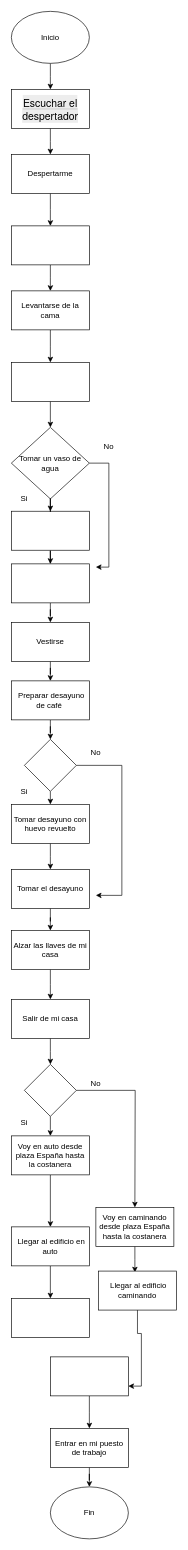
Some shapes in this 188 by 1550 pixel diagram are drawn without their labels. Here are the shapes that lost their labels. From the top down, the box of each, then its label:
(11, 225, 89, 265): Apagar la alarma del despertador
(11, 362, 89, 401): Ir a lavarme los dientes y la cara
(11, 511, 89, 550): Toma agua
(11, 563, 89, 603): Ducharse
(24, 739, 76, 791): con huevo revuelto
(24, 1064, 76, 1116): Me subo al auto
(11, 1298, 89, 1337): Estacionar en la playa
(50, 1356, 128, 1396): Marcar en el lector mi ingreso al puesto laboral
